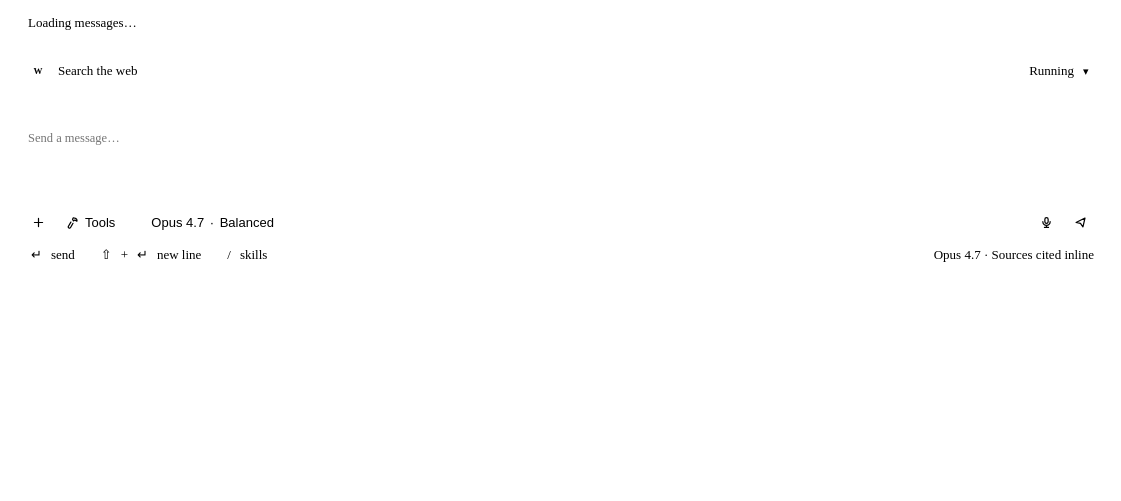
Test: TcChat — inline tool-call card (Workstream D) › bounds selectable payloads and rolls delegated work up to agent anchors
The width and height of the screenshot is (1121, 501).
Click the heading named "Show details for Search the web": (560, 71) [16,51,1104,91]
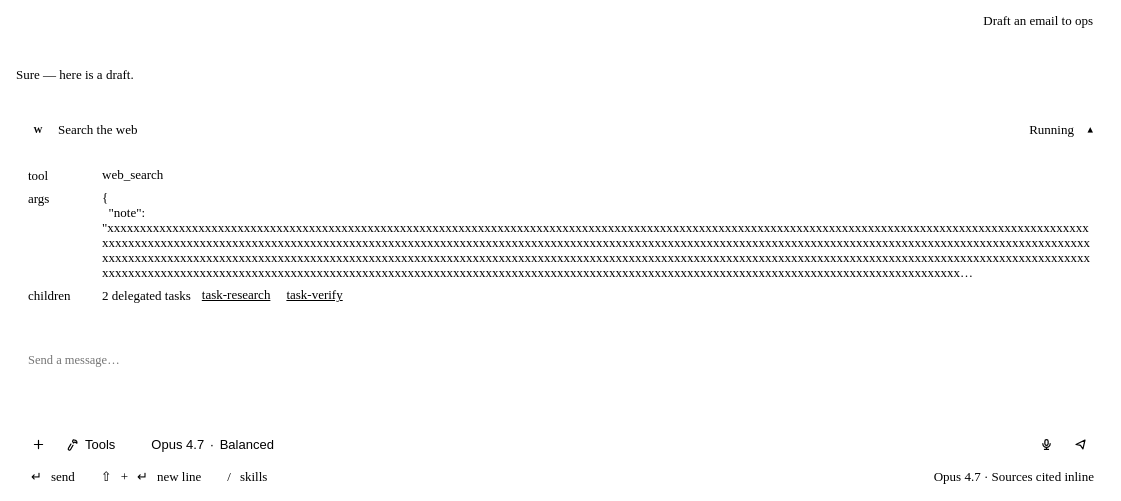
Check: the text "2 delegated tasks" is shown, box [102,288,191,303]
